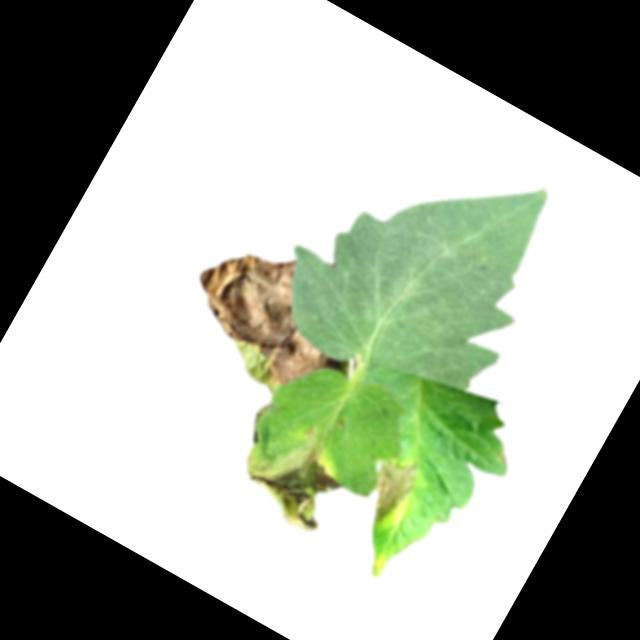Late_blight: (171, 222, 368, 404), (228, 413, 359, 539), (355, 449, 425, 530), (241, 400, 276, 447)
healthy: (256, 94, 584, 430)
